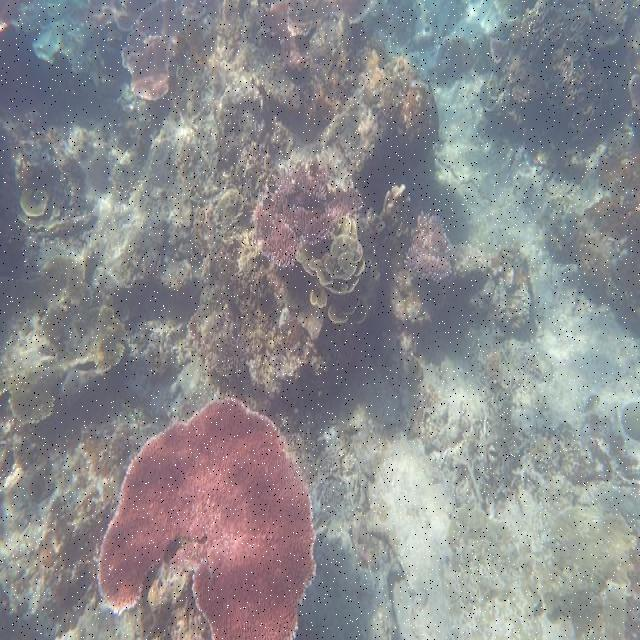reefs: (96, 401, 316, 638)
